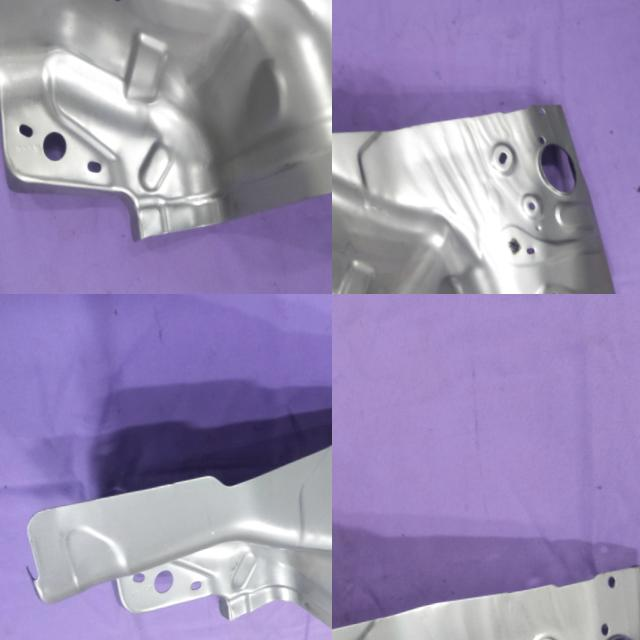Healthy: (0, 0, 332, 272), (11, 377, 332, 640), (332, 88, 634, 294), (332, 560, 640, 640)
